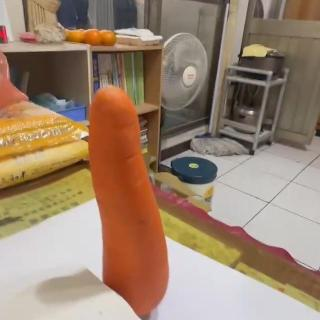carrot: (86, 84, 170, 316)
